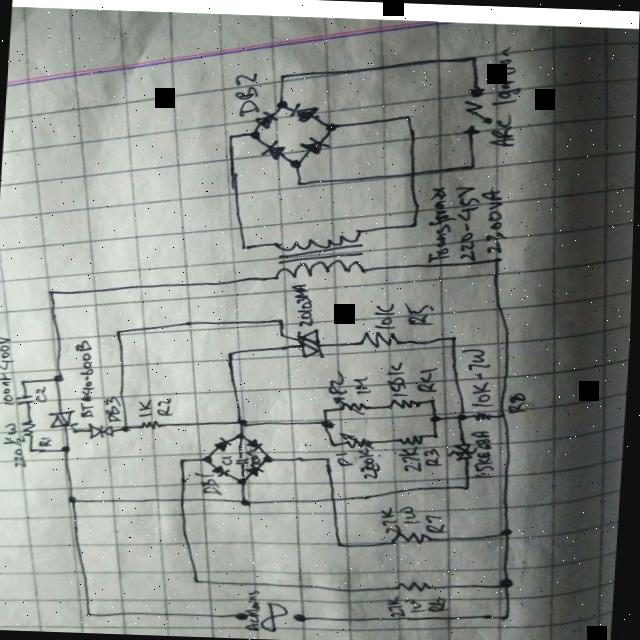capacitor: (15, 394, 35, 406), (235, 457, 250, 466)
crossover: (174, 492, 196, 508), (326, 493, 347, 507), (402, 168, 423, 181)
diode: (296, 136, 330, 156), (446, 442, 480, 462), (287, 102, 318, 123), (259, 138, 286, 161), (87, 422, 117, 441), (252, 110, 278, 131), (245, 462, 265, 478), (213, 437, 233, 452), (212, 464, 231, 478), (246, 438, 263, 452)
junction: (322, 122, 338, 134), (287, 158, 303, 170), (273, 98, 289, 110), (501, 578, 515, 588), (465, 162, 479, 172), (465, 54, 479, 63), (26, 446, 39, 454), (69, 428, 82, 436), (275, 317, 288, 325), (85, 610, 97, 618), (68, 496, 80, 504), (60, 444, 72, 452), (19, 378, 31, 386), (54, 374, 66, 382), (121, 424, 133, 432), (237, 418, 249, 426), (192, 577, 204, 585), (176, 456, 188, 464), (202, 455, 214, 463), (236, 478, 248, 486), (241, 498, 253, 506), (263, 456, 275, 464), (336, 540, 348, 548), (322, 456, 334, 464), (501, 614, 513, 622), (502, 528, 514, 536), (462, 483, 474, 491), (497, 411, 509, 419), (456, 413, 468, 421), (429, 415, 441, 423), (426, 397, 438, 405), (330, 441, 342, 449), (321, 406, 333, 414), (276, 331, 288, 339), (448, 334, 460, 342), (492, 256, 504, 264), (407, 222, 419, 230), (240, 244, 252, 252), (113, 329, 125, 337), (46, 289, 58, 297), (225, 132, 237, 140), (247, 130, 259, 138), (294, 180, 306, 188), (276, 72, 288, 80), (401, 114, 413, 122), (235, 432, 247, 439), (430, 432, 442, 439), (323, 421, 335, 428), (226, 351, 238, 358)
resistor: (357, 330, 405, 350), (389, 530, 436, 547), (331, 396, 372, 415), (338, 430, 377, 449), (395, 580, 434, 592), (388, 398, 423, 411), (399, 434, 427, 446), (20, 420, 38, 438), (139, 418, 163, 431), (472, 411, 494, 422)
terminal: (461, 124, 479, 136), (236, 610, 253, 622), (467, 87, 484, 99), (293, 612, 311, 623)
text: (425, 183, 509, 266), (485, 46, 522, 148), (458, 348, 499, 409), (71, 339, 101, 418), (380, 504, 449, 534), (387, 594, 453, 619), (0, 333, 20, 405), (468, 429, 497, 478), (231, 70, 260, 118), (397, 444, 443, 474), (288, 282, 317, 328), (2, 423, 31, 468), (386, 360, 412, 398), (245, 589, 265, 632), (357, 446, 383, 478), (136, 397, 175, 418), (402, 302, 436, 325), (192, 472, 224, 495), (372, 302, 397, 330), (417, 366, 441, 394), (104, 395, 124, 423), (328, 370, 349, 396), (507, 392, 528, 414), (353, 375, 373, 396), (244, 448, 264, 467), (333, 452, 356, 468), (34, 387, 49, 402), (38, 436, 54, 448), (221, 456, 235, 466)
thyristor: (288, 328, 328, 359), (47, 406, 81, 432)
transformer: (271, 225, 370, 283)
